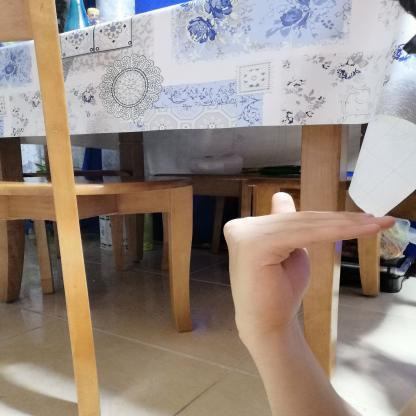KHAA: (207, 184, 403, 338)
